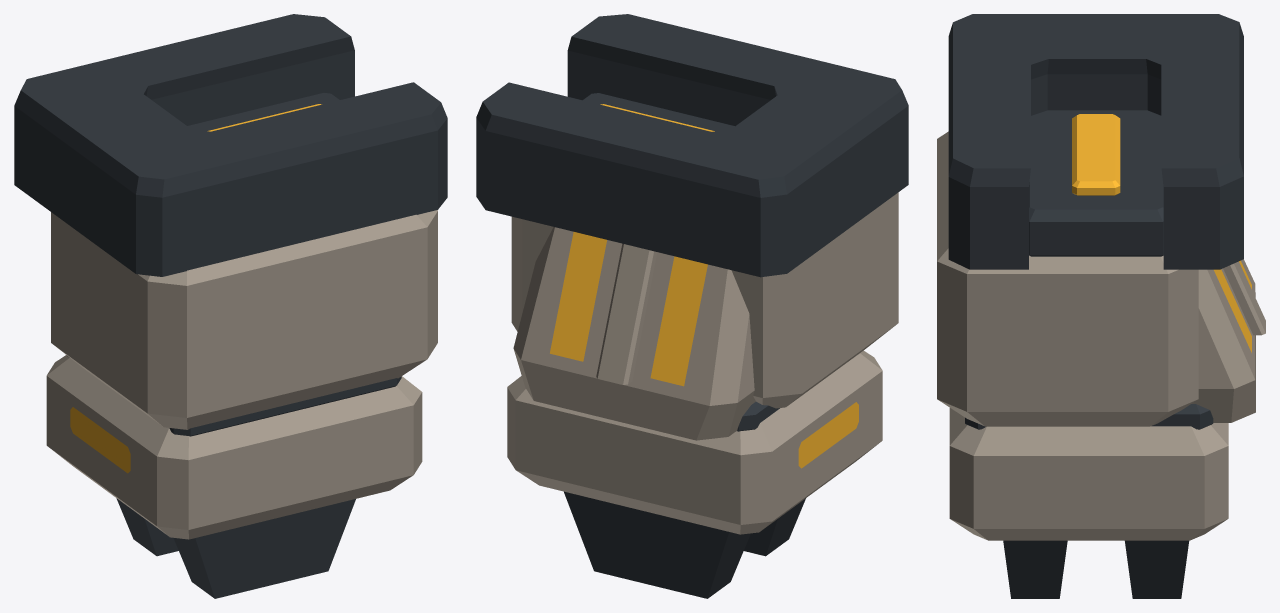
Rendered from slowdown.obj.
3 views of the same model, side by side, from view 1: azimuth 30°, elevation 25°; view 2: azimuth 150°, elevation 25°; view 3: azimuth 270°, elevation 25° (orthographic). The views are drawn at different scales.
Visible parts, largest first — view 1: slowdown; view 2: slowdown; view 3: slowdown.
Boxes of the visible parts, x1,y1,x2,y2 form: slowdown: [14, 14, 447, 598]; slowdown: [476, 14, 908, 598]; slowdown: [937, 14, 1265, 598].
Size of the model in its own units: 0.688 by 0.9662 by 0.6013.
